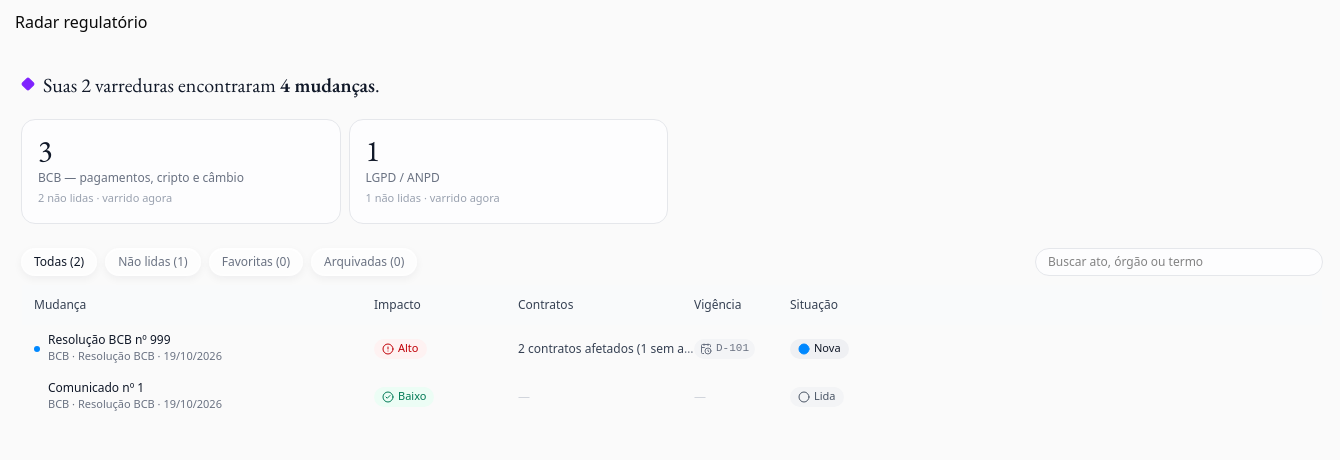
Test: RegulatoryRadarView › adds up every scan when there are several and none is selected
Expected: the text "4 mudanças" is shown, [280,72,375,98]
Expected: the text "Suas 2 varreduras encontraram 4 mudanças." is shown, [43,71,380,99]
Click the button "1 LGPD / ANPD 1 não lidas · varrido agora" at (403, 178), box [348,119,668,224]
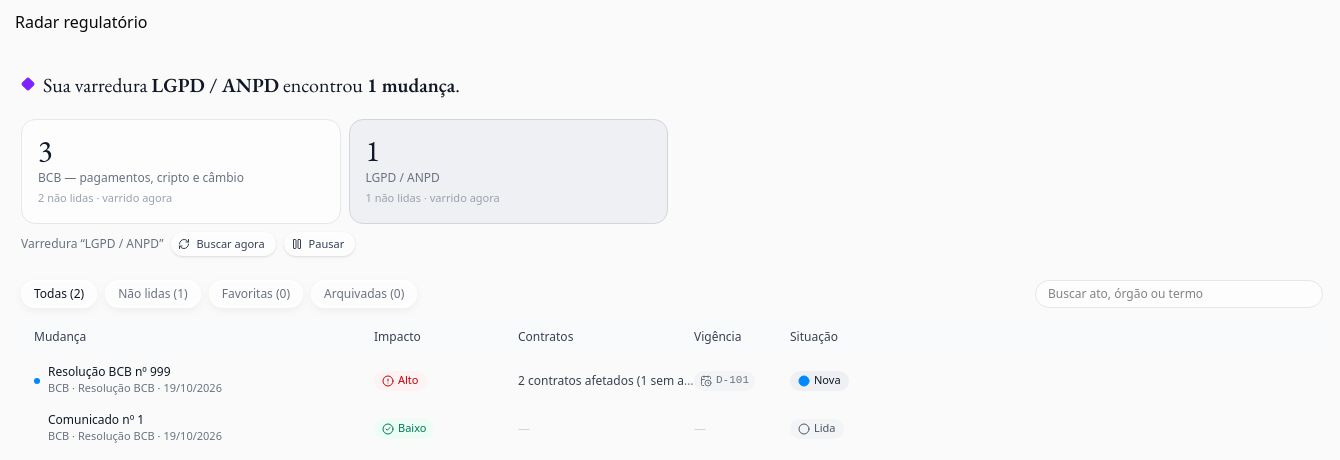
Expected: the text "1 mudança" is shown, [367,72,455,98]
Expected: the text "LGPD / ANPD" next to "Sua varredura" is shown, [152,72,279,98]
